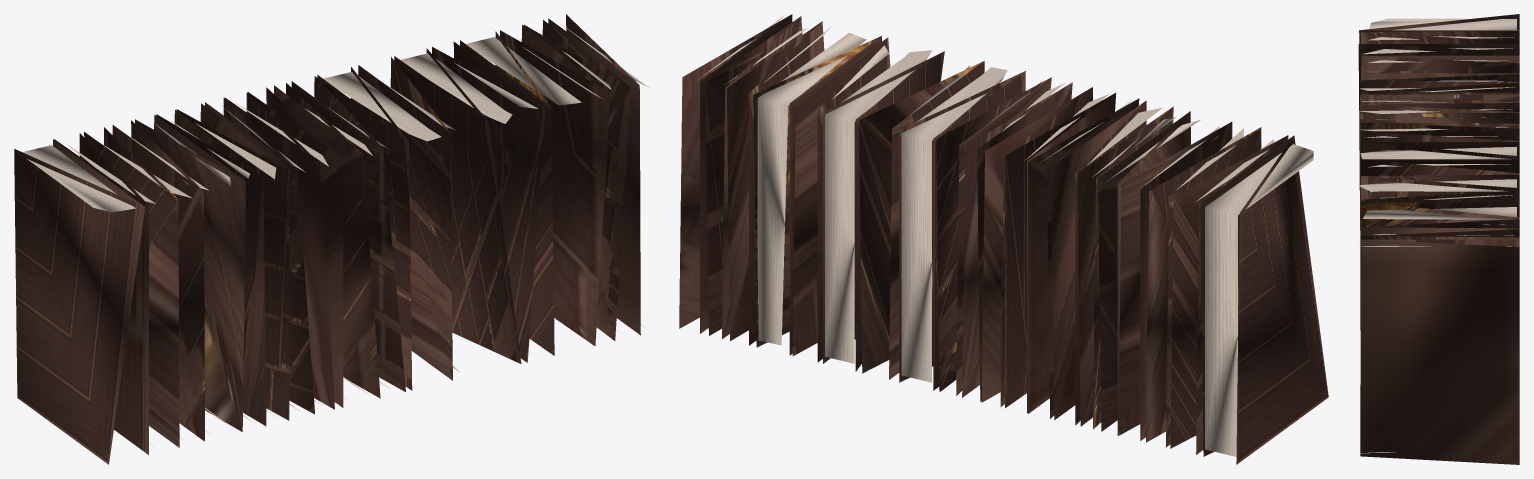
The model's file is book_encyclopedia_set_01.glb.
3 renders of one model, left to right at view 1: azimuth 30°, elevation 25°; view 2: azimuth 150°, elevation 25°; view 3: azimuth 270°, elevation 25°, orthographic. The views are drawn at different scales.
Parts seen in each view (by area): view 1: book_encyclopedia_set_01_book01, book_encyclopedia_set_01_book15, book_encyclopedia_set_01_book18, book_encyclopedia_set_01_book05, book_encyclopedia_set_01_book14, book_encyclopedia_set_01_book16, book_encyclopedia_set_01_book03, book_encyclopedia_set_01_book11, book_encyclopedia_set_01_book04, book_encyclopedia_set_01_book07, book_encyclopedia_set_01_book13, book_encyclopedia_set_01_book12 (+8 smaller); view 2: book_encyclopedia_set_01_book01, book_encyclopedia_set_01_book13, book_encyclopedia_set_01_book15, book_encyclopedia_set_01_book17, book_encyclopedia_set_01_book14, book_encyclopedia_set_01_book16, book_encyclopedia_set_01_book18, book_encyclopedia_set_01_book04, book_encyclopedia_set_01_book02, book_encyclopedia_set_01_book07, book_encyclopedia_set_01_book12, book_encyclopedia_set_01_book03 (+8 smaller); view 3: book_encyclopedia_set_01_book20, book_encyclopedia_set_01_book17, book_encyclopedia_set_01_book15, book_encyclopedia_set_01_book13, book_encyclopedia_set_01_book14, book_encyclopedia_set_01_book03, book_encyclopedia_set_01_book04, book_encyclopedia_set_01_book01, book_encyclopedia_set_01_book02, book_encyclopedia_set_01_book10, book_encyclopedia_set_01_book12, book_encyclopedia_set_01_book18 (+8 smaller).
Boxes of the visible parts, x1,y1,x2,y2 form: book_encyclopedia_set_01_book01: (14,139,145,464); book_encyclopedia_set_01_book15: (394,48,521,363); book_encyclopedia_set_01_book18: (500,25,610,345); book_encyclopedia_set_01_book05: (135,115,245,431); book_encyclopedia_set_01_book14: (358,57,460,380); book_encyclopedia_set_01_book16: (432,41,545,362); book_encyclopedia_set_01_book03: (84,127,192,447); book_encyclopedia_set_01_book11: (274,83,380,398); book_encyclopedia_set_01_book04: (112,120,209,441); book_encyclopedia_set_01_book07: (176,103,289,420); book_encyclopedia_set_01_book13: (317,67,441,390); book_encyclopedia_set_01_book12: (291,76,405,391); book_encyclopedia_set_01_book01: (1200,135,1328,464); book_encyclopedia_set_01_book13: (899,67,1025,390); book_encyclopedia_set_01_book15: (823,50,944,371); book_encyclopedia_set_01_book17: (753,32,881,355); book_encyclopedia_set_01_book14: (859,61,984,379); book_encyclopedia_set_01_book16: (792,37,890,362); book_encyclopedia_set_01_book18: (727,21,831,345); book_encyclopedia_set_01_book04: (1118,122,1232,440); book_encyclopedia_set_01_book02: (1170,135,1288,454); book_encyclopedia_set_01_book07: (1051,100,1162,425); book_encyclopedia_set_01_book12: (936,77,1051,395); book_encyclopedia_set_01_book03: (1146,127,1261,447); book_encyclopedia_set_01_book20: (1359,239,1519,464); book_encyclopedia_set_01_book17: (1361,202,1519,226); book_encyclopedia_set_01_book15: (1358,174,1519,199); book_encyclopedia_set_01_book13: (1360,142,1519,159); book_encyclopedia_set_01_book14: (1361,159,1519,175); book_encyclopedia_set_01_book03: (1358,43,1519,229); book_encyclopedia_set_01_book04: (1361,55,1519,72); book_encyclopedia_set_01_book01: (1359,14,1519,43); book_encyclopedia_set_01_book02: (1358,31,1519,245); book_encyclopedia_set_01_book10: (1359,112,1519,330); book_encyclopedia_set_01_book12: (1359,131,1519,345); book_encyclopedia_set_01_book18: (1360,219,1519,435).
Size of the model in its own units: 0.5513 by 0.2374 by 0.161.
2 materials, 2 textured.
